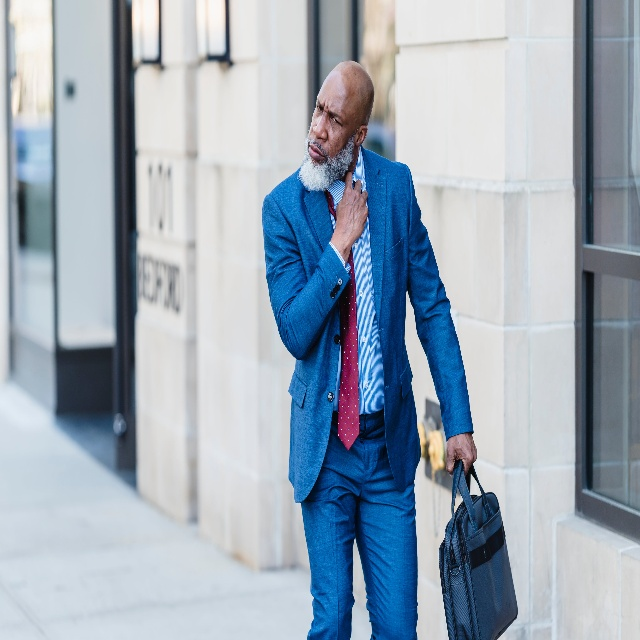Sin_guantes: (334, 172, 369, 244), (445, 433, 478, 480)
